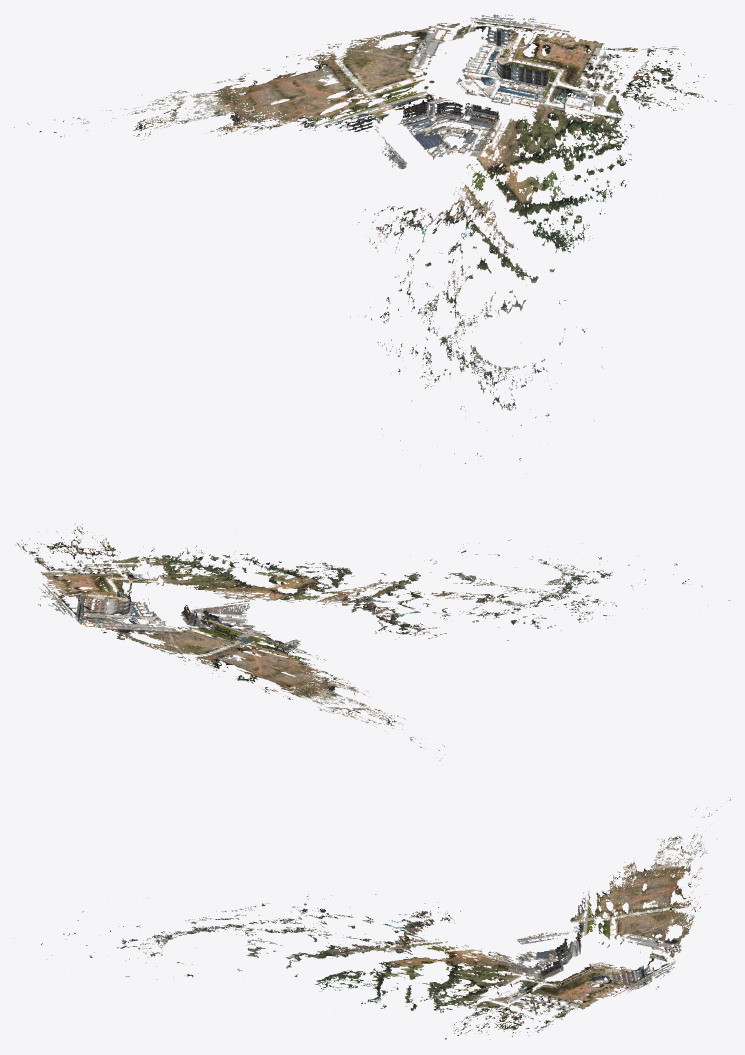
Rendered from ref4k_textured.glb.
3 views of the same model, one above another, from view 1: azimuth 30°, elevation 25°; view 2: azimuth 150°, elevation 25°; view 3: azimuth 270°, elevation 25° (orthographic). The views are drawn at different scales.
Visible parts, largest first — view 1: node; view 2: node; view 3: node.
Boxes of the visible parts, x1,y1,x2,y2 form: node: (14, 14, 716, 465); node: (14, 523, 729, 760); node: (14, 797, 730, 1039).
Bounding box in the file's own units: 43.81 × 9.88 × 51.68.
Materials: 1 (1 with a texture image).
